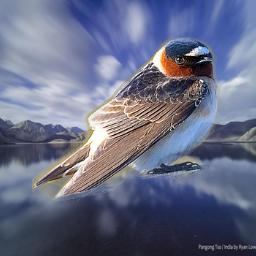Swallow: (32, 37, 220, 204)
